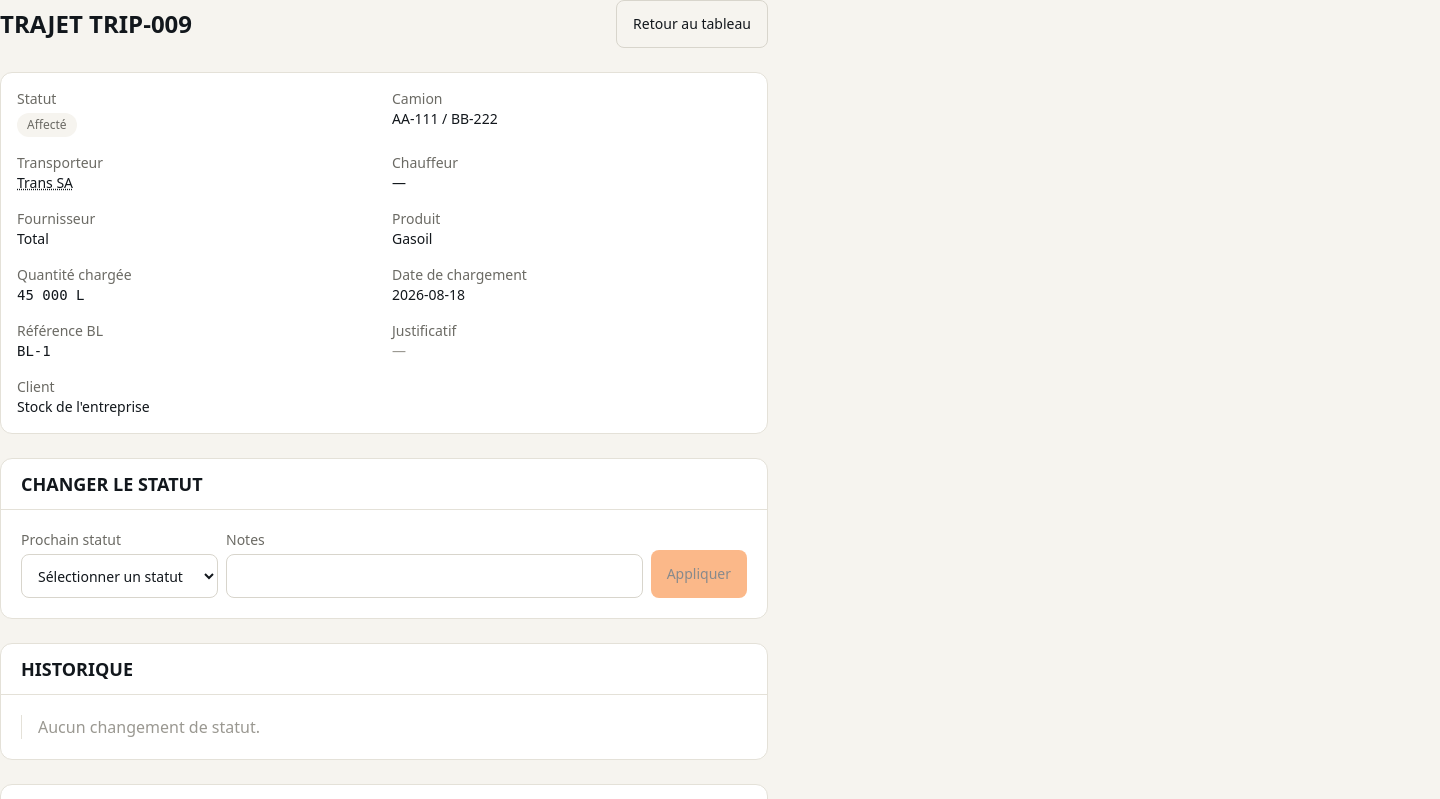
Test: TripDetail expenses section › opens the transporter commission popup after ASSIGNED -> SENT_FOR_LOADING
The image size is (1440, 799).
Select "Envoyé au chargement" in the dropdown with id "next_status" at (120, 576), box [21,554,218,598]
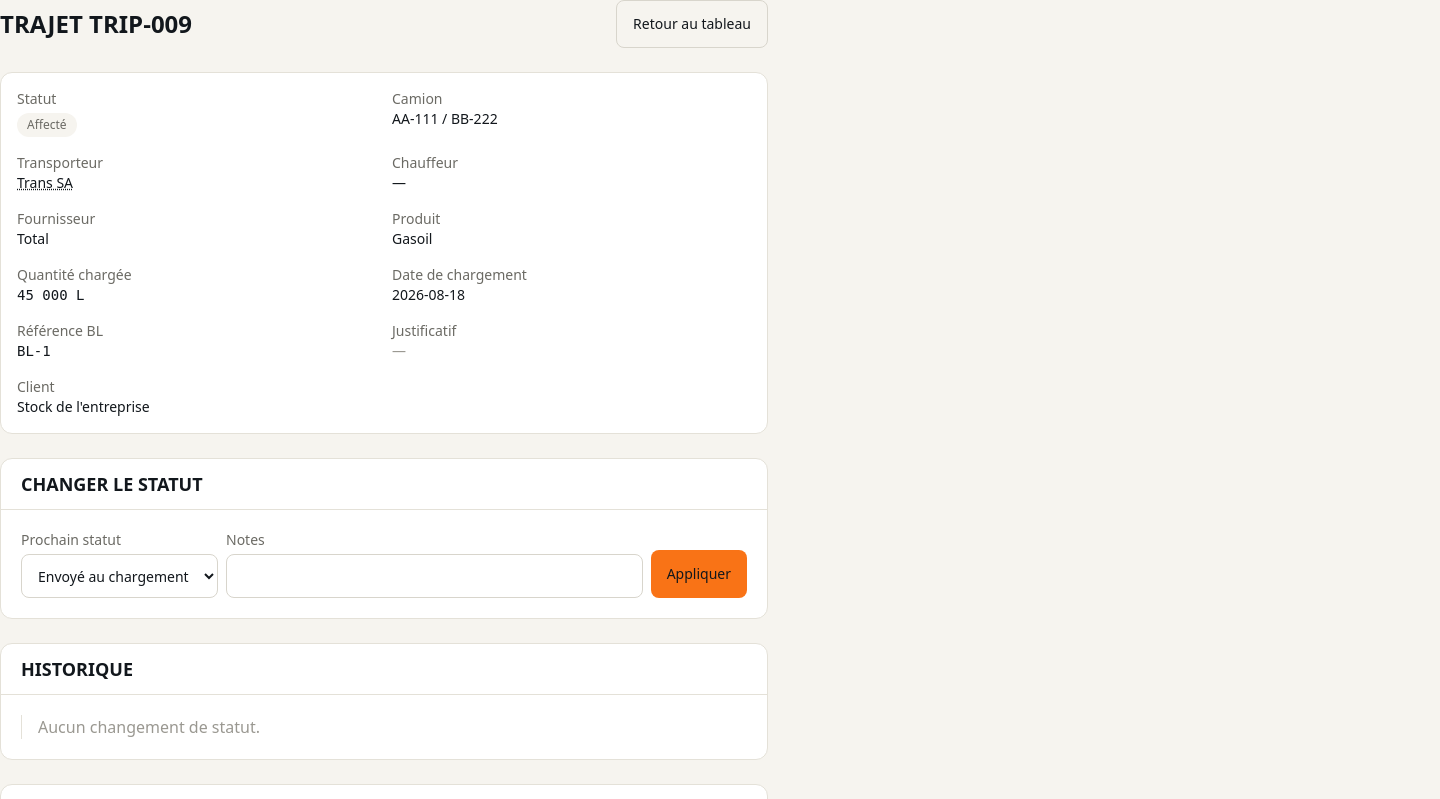
Click the button "Appliquer" at (699, 574), box [651,550,747,598]
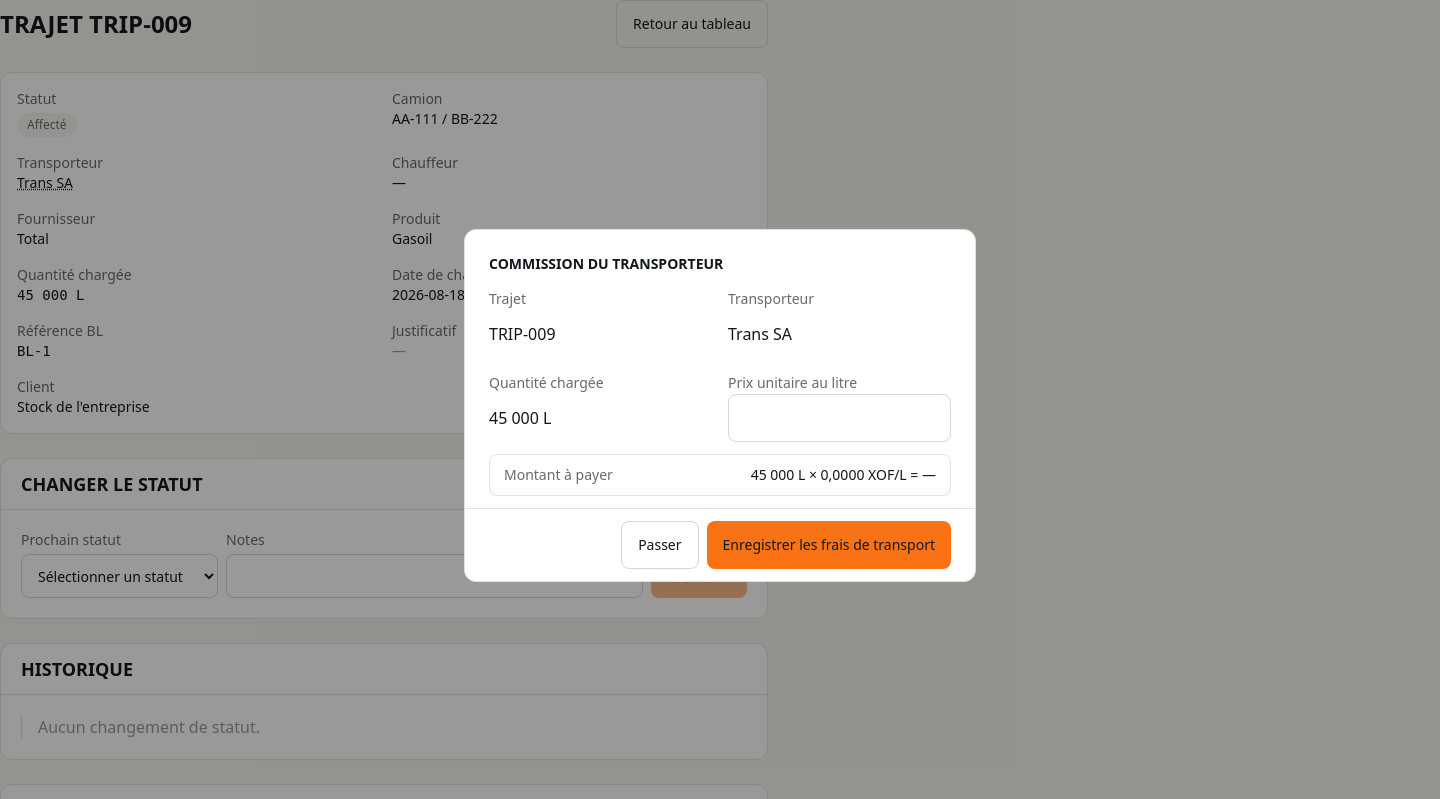
Expected: the number field with id "unit_price_per_litre" is shown, [728,394,951,442]
Expected: the text "Commission du transporteur" is shown, [489,254,723,272]
